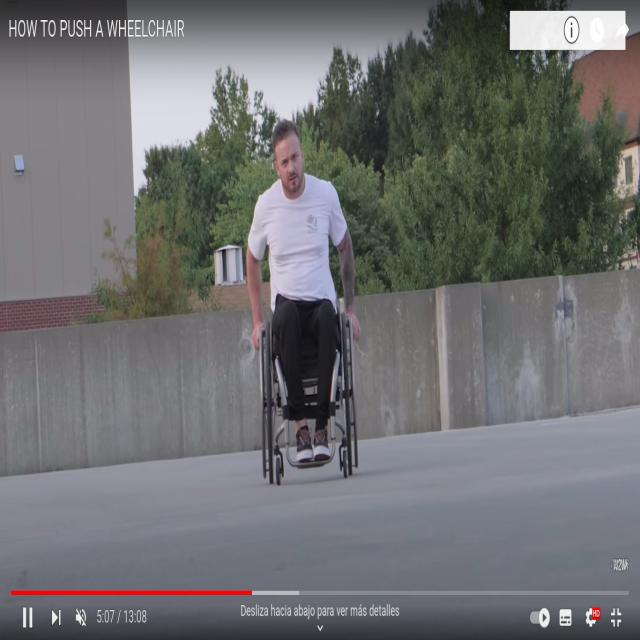wheelchairs: (252, 297, 364, 483)
